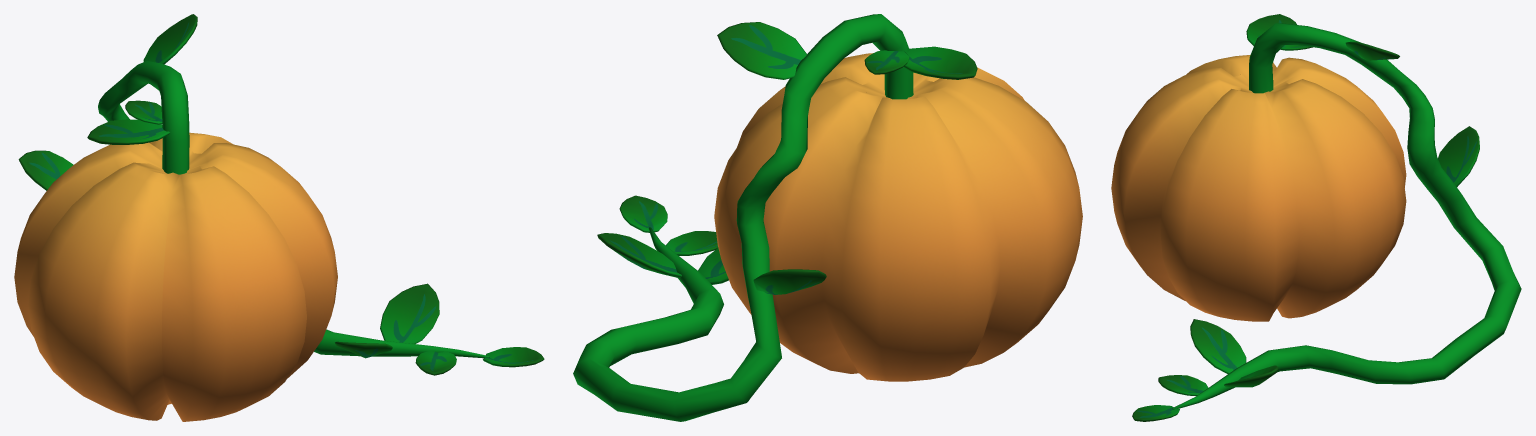
Rendered from Veg_pumpkin_L_1.fbx.
3 views of the same model, side by side, from view 1: azimuth 30°, elevation 25°; view 2: azimuth 150°, elevation 25°; view 3: azimuth 270°, elevation 25° (orthographic). The views are drawn at different scales.
Visible parts, largest first — view 1: Sphere; view 2: Sphere; view 3: Sphere.
Boxes of the visible parts, x1=… form: Sphere: x1=14, y1=14, x2=544, y2=421; Sphere: x1=573, y1=14, x2=1082, y2=421; Sphere: x1=1111, y1=14, x2=1521, y2=421.
Size of the model in its own units: 63.05 by 72.17 by 49.34.
